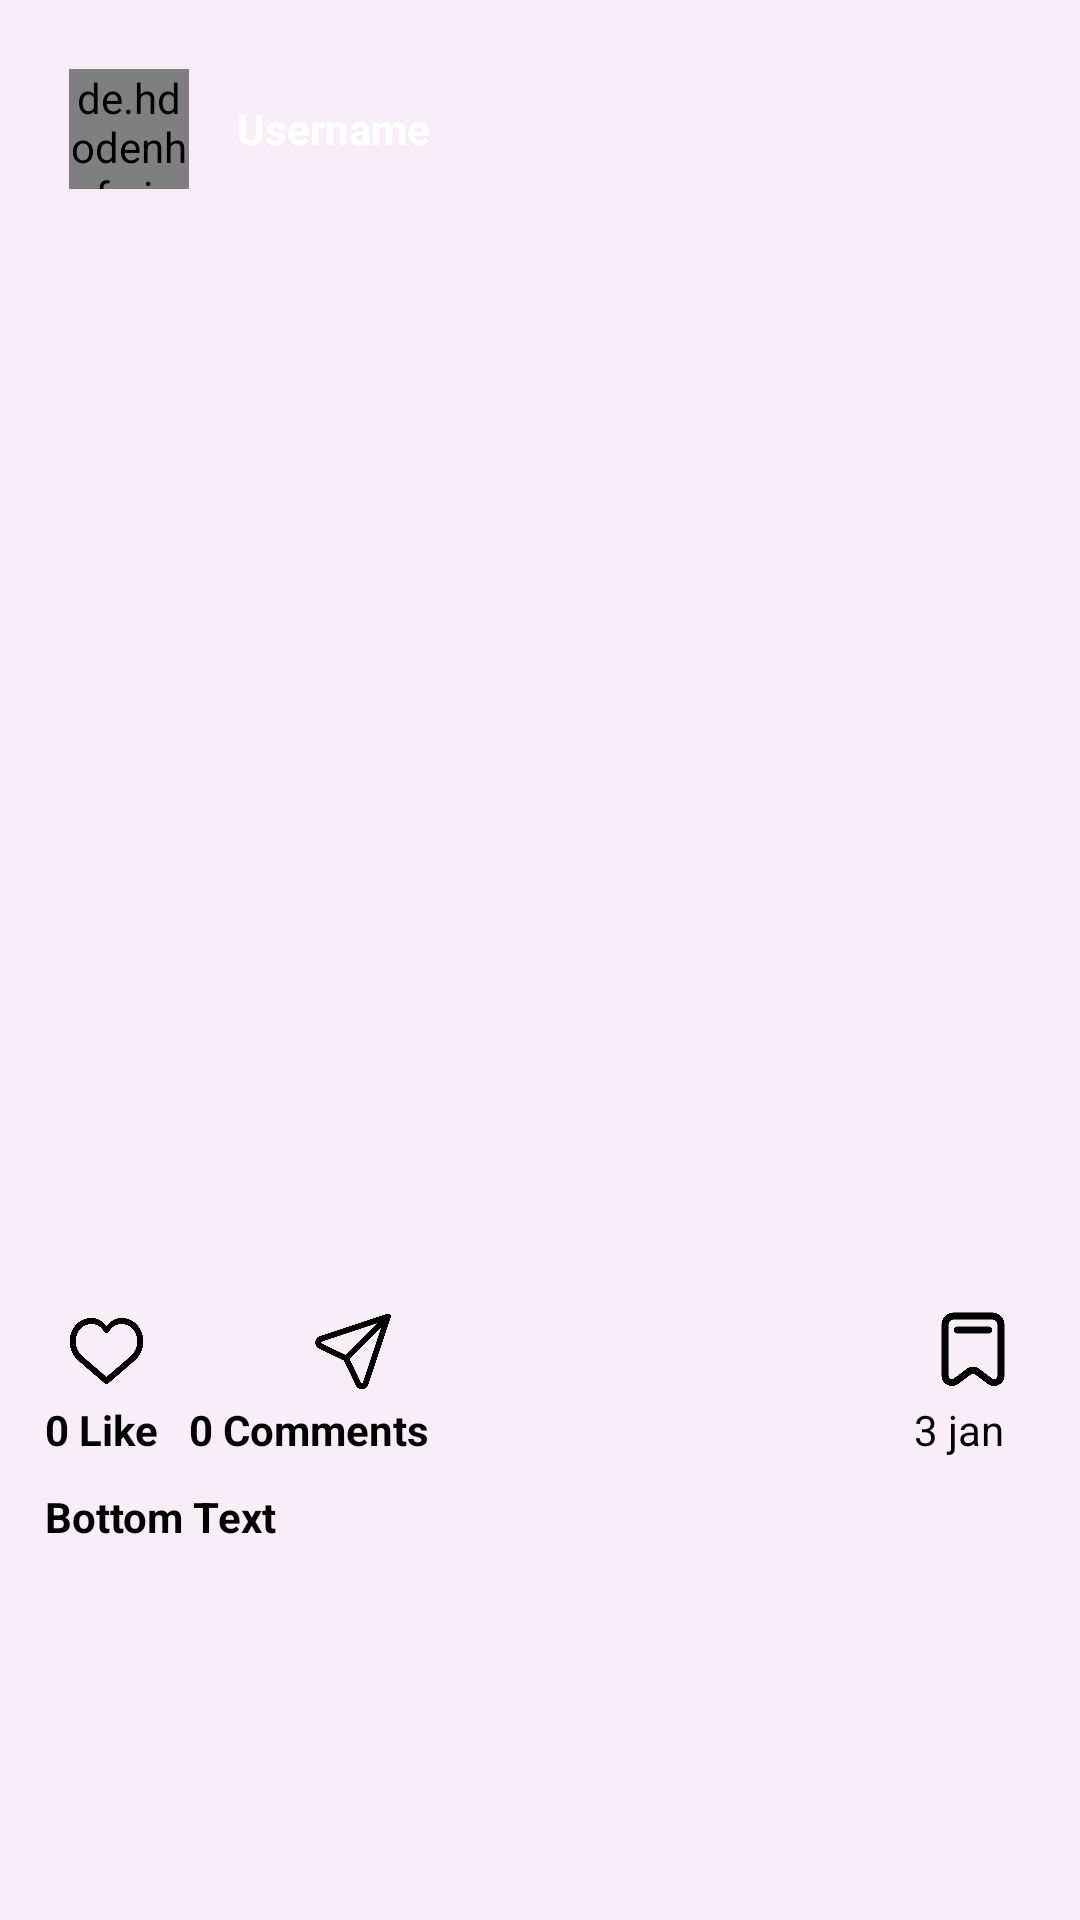

Point at icon controls on the screen. Image size 1080*1920, points as point (x, y).
bookmark: point (973, 1349)
direct: point (353, 1351)
heart: point (106, 1351)
